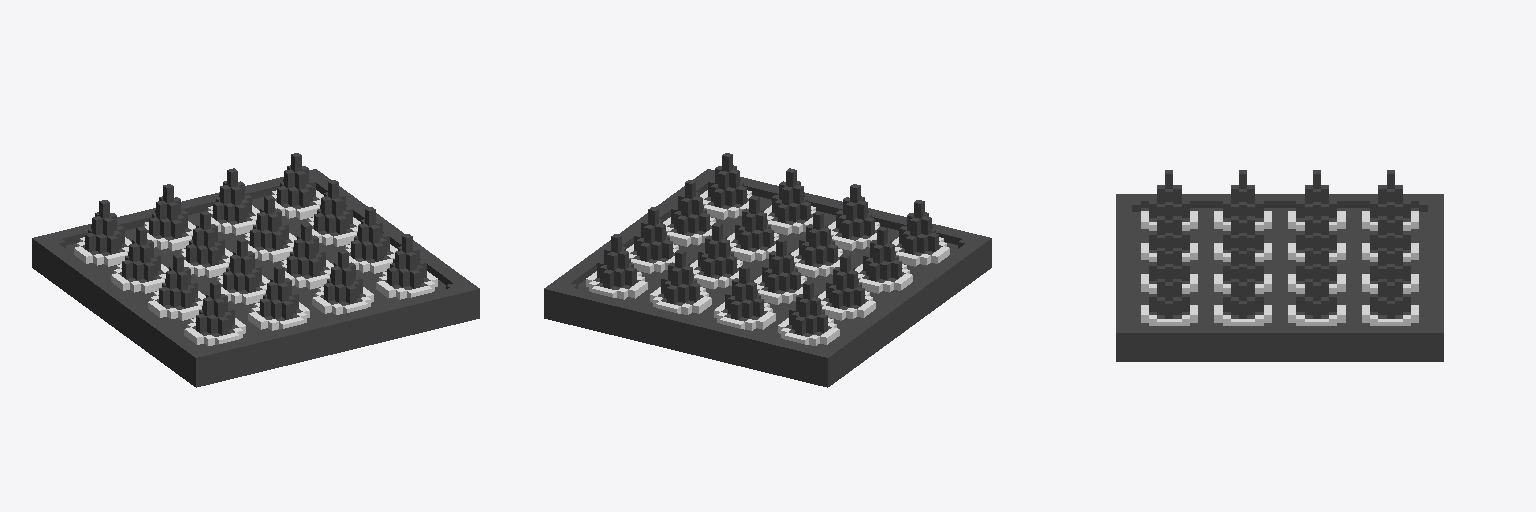
3 renders of one model, left to right at view 1: azimuth 30°, elevation 25°; view 2: azimuth 150°, elevation 25°; view 3: azimuth 270°, elevation 25°, orthographic.
Parts seen in each view (by area): view 1: Spike_Trap_03; view 2: Spike_Trap_03; view 3: Spike_Trap_03.
Boxes of the visible parts, x1=… form: Spike_Trap_03: x1=32, y1=153, x2=479, y2=387; Spike_Trap_03: x1=544, y1=153, x2=991, y2=387; Spike_Trap_03: x1=1116, y1=170, x2=1443, y2=361.
Bounding box in the file's own units: 40 × 10 × 40.
1 materials, 1 textured.